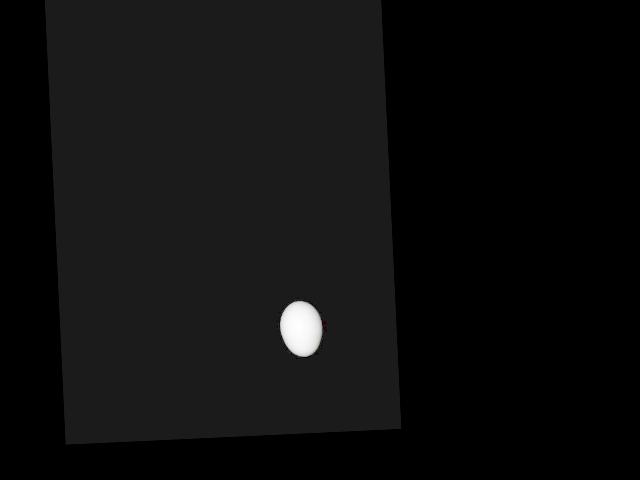egg: (279, 299, 322, 356)
